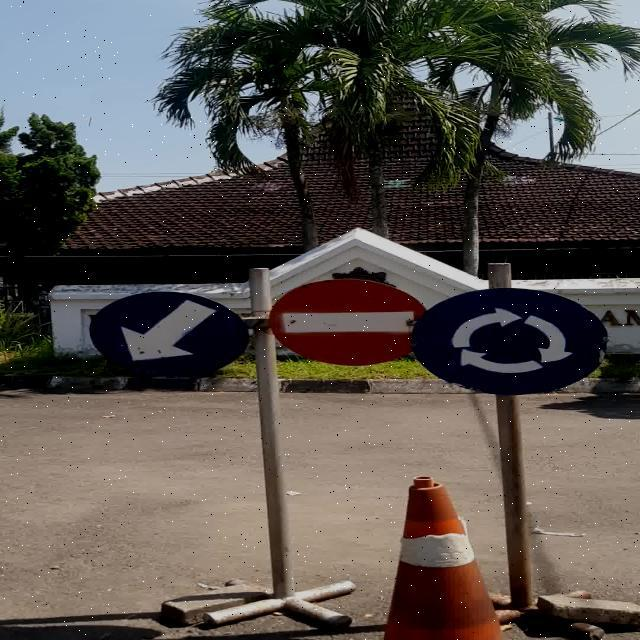Ikuti Bundaran: (409, 286, 609, 396)
Lajur Kiri: (88, 291, 250, 378)
